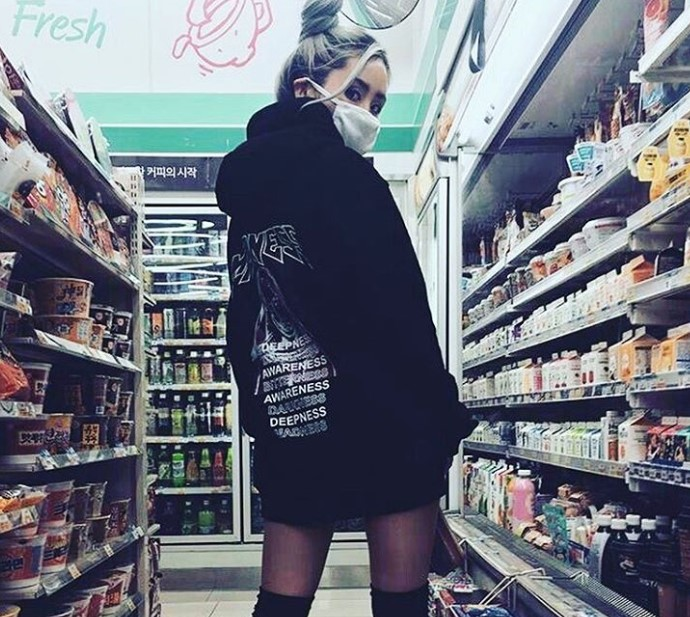face_with_mask: (288, 35, 393, 159)
